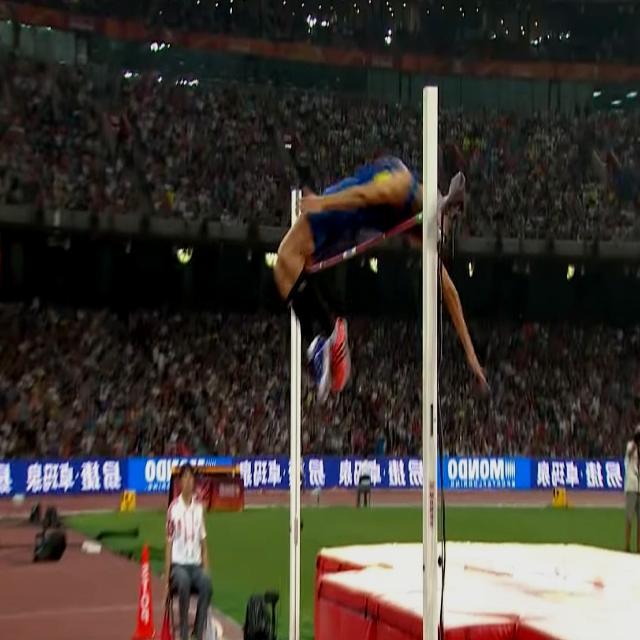jump: (274, 153, 492, 404)
